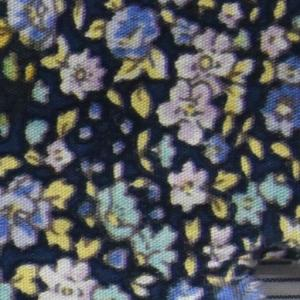Damage: (234, 236, 300, 300)
Stain: (1, 15, 65, 133)
